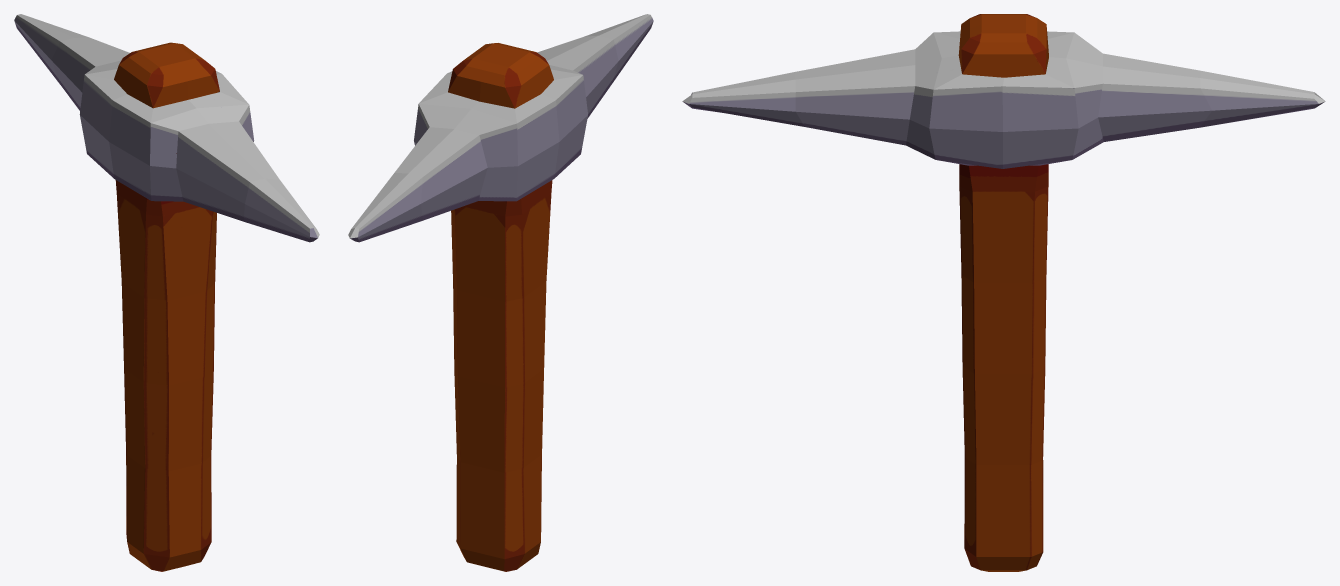
The model's file is Pickaxe 1.fbx.
3 renders of one model, left to right at view 1: azimuth 30°, elevation 25°; view 2: azimuth 150°, elevation 25°; view 3: azimuth 270°, elevation 25°, orthographic. The views are drawn at different scales.
Visible parts, largest first — view 1: Cube; view 2: Cube; view 3: Cube.
Boxes of the visible parts, x1=… form: Cube: x1=14, y1=14, x2=319, y2=571; Cube: x1=348, y1=14, x2=653, y2=571; Cube: x1=682, y1=14, x2=1325, y2=571.
Bounding box in the file's own units: 770 × 715 × 172.
